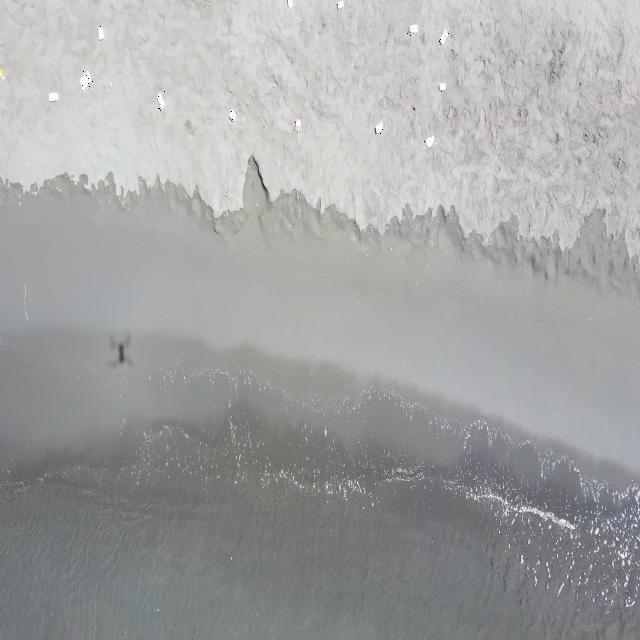Garbage: (111, 333, 131, 364), (80, 70, 91, 89), (23, 283, 27, 320), (439, 30, 447, 44), (375, 120, 383, 134), (424, 136, 433, 147), (158, 91, 163, 110), (293, 119, 300, 131), (408, 24, 417, 33), (48, 91, 57, 100), (228, 108, 235, 119), (98, 26, 103, 40), (437, 81, 444, 91), (336, 0, 344, 8), (0, 68, 4, 79), (287, 0, 292, 7)
